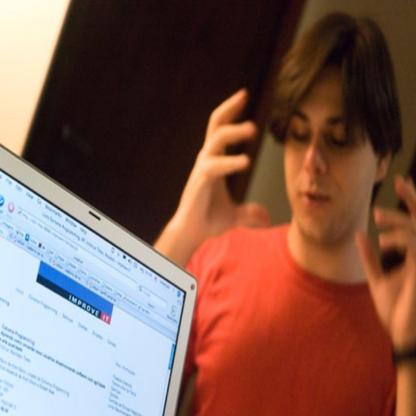board: (0, 143, 197, 415)
